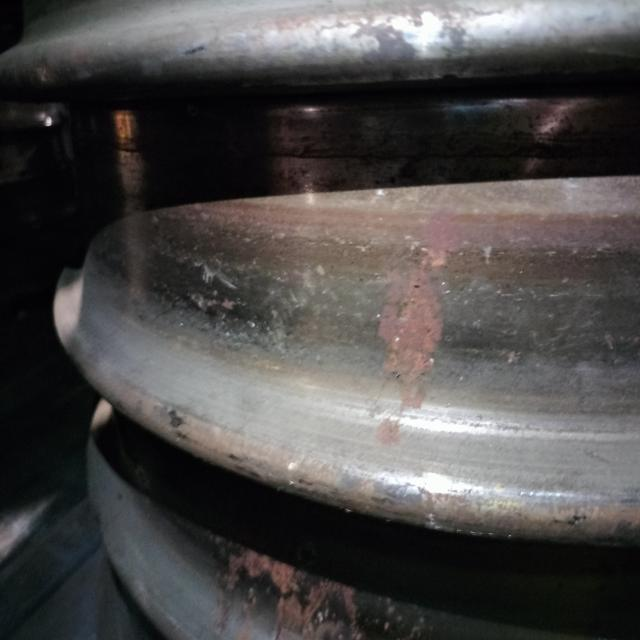Peeling: (187, 246, 236, 320)
